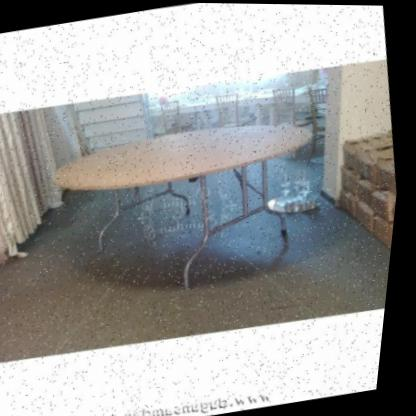Table: (21, 93, 356, 326)
